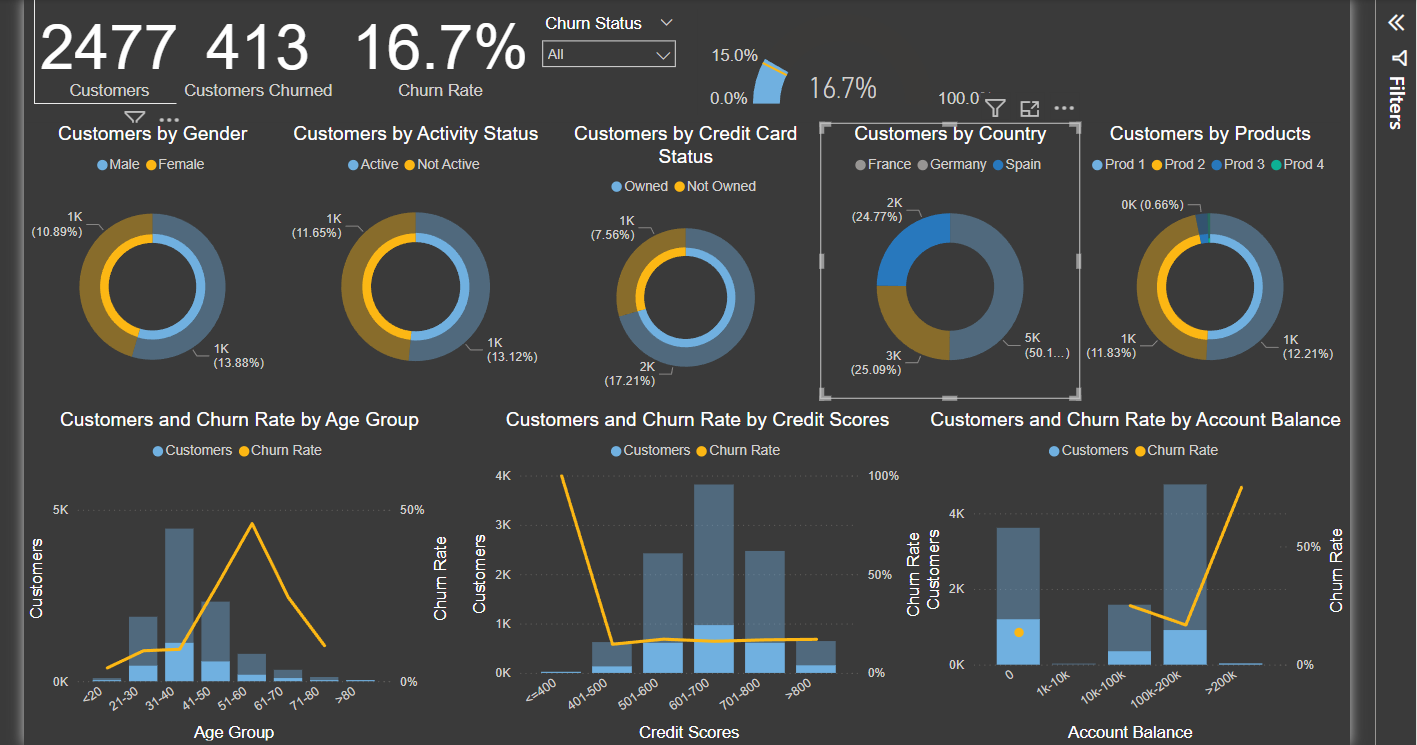

The page's visual inventory and layout, read from the dashboard file:
{"tool":"powerbi","page":{"name":"Page 1","canvas":[1280,720],"ordinal":0},"visuals":[{"type":"card","fields":{"Values":["Customer Data.Customers"]},"box":[9.8,0,145.5,101.5],"z":0},{"type":"card","fields":{"Values":["Customer Data.Customers Churned"]},"box":[146.8,0,157.8,101.5],"z":1},{"type":"card","fields":{"Values":["Customer Data.Churn Rate"]},"box":[304.6,0,193.5,101.5],"z":2},{"type":"donutChart","fields":{"Category":["Customer Data.Gender"],"Y":["Customer Data.Customers"]},"box":[0,119.4,248.4,266.2],"z":3},{"type":"donutChart","fields":{"Y":["Customer Data.Customers"],"Category":["Customer Data.Activity Status"]},"box":[248.4,119.4,259.3,266.2],"z":4},{"type":"donutChart","fields":{"Y":["Customer Data.Customers"],"Category":["Customer Data.Credit Card Status"]},"box":[509.1,119.4,259.3,266.2],"z":5},{"type":"donutChart","fields":{"Y":["Customer Data.Customers"],"Category":["Customer Data.Country"]},"box":[768.4,119.4,251.1,266.2],"z":6},{"type":"donutChart","fields":{"Y":["Customer Data.Customers"],"Category":["Customer Data.Products"]},"box":[1019.6,119.4,251.1,266.2],"z":7},{"type":"lineClusteredColumnComboChart","fields":{"Category":["Age Group ID.Age Group"],"Y":["Customer Data.Customers"],"Y2":["Customer Data.Churn Rate"]},"box":[0,395.2,415.8,325.2],"z":8},{"type":"lineClusteredColumnComboChart","fields":{"Y":["Customer Data.Customers"],"Y2":["Customer Data.Churn Rate"],"Category":["Credit Scores ID.Credit Scores"]},"box":[426.8,395.2,446,325.2],"z":9},{"type":"lineClusteredColumnComboChart","fields":{"Y":["Customer Data.Customers"],"Y2":["Customer Data.Churn Rate"],"Category":["Acct Balance ID.Account Balance"]},"box":[864.5,395.2,415.8,325.2],"z":10},{"type":"slicer","fields":{"Values":["Customer Data.Churn Status"]},"box":[489.9,9.6,149.6,91.9],"z":11},{"type":"gauge","fields":{"Y":["Customer Data.Churn Rate"],"MinValue":["Min(Customer Data.Minimum Churn Rate)"],"MaxValue":["Max(Customer Data.Maximum Churn Rate)"],"TargetValue":["Min(Customer Data.Target Churn Rate)"]},"box":[650.4,9.6,297.8,101.5],"z":12}]}

Visuals, with their boxes in screenshot pixels (x1, y1, x2, y2):
card - Customer Data.Customers: BBox(51, 18, 199, 122)
card - Customer Data.Customers Churned: BBox(190, 18, 352, 122)
card - Customer Data.Churn Rate: BBox(352, 18, 549, 122)
donutChart - Customer Data.Gender x Customer Data.Customers: BBox(41, 140, 294, 412)
donutChart - Customer Data.Customers x Customer Data.Activity Status: BBox(294, 140, 559, 412)
donutChart - Customer Data.Customers x Customer Data.Credit Card Status: BBox(560, 140, 825, 412)
donutChart - Customer Data.Customers x Customer Data.Country: BBox(825, 140, 1081, 412)
donutChart - Customer Data.Customers x Customer Data.Products: BBox(1082, 140, 1338, 412)
lineClusteredColumnComboChart - Age Group ID.Age Group x Customer Data.Customers: BBox(41, 422, 465, 744)
lineClusteredColumnComboChart - Customer Data.Customers x Customer Data.Churn Rate: BBox(476, 422, 932, 744)
lineClusteredColumnComboChart - Customer Data.Customers x Customer Data.Churn Rate: BBox(923, 422, 1348, 744)
slicer - Customer Data.Churn Status: BBox(541, 28, 694, 122)
gauge - Customer Data.Churn Rate x Min(Customer Data.Minimum Churn Rate): BBox(705, 28, 1009, 132)
